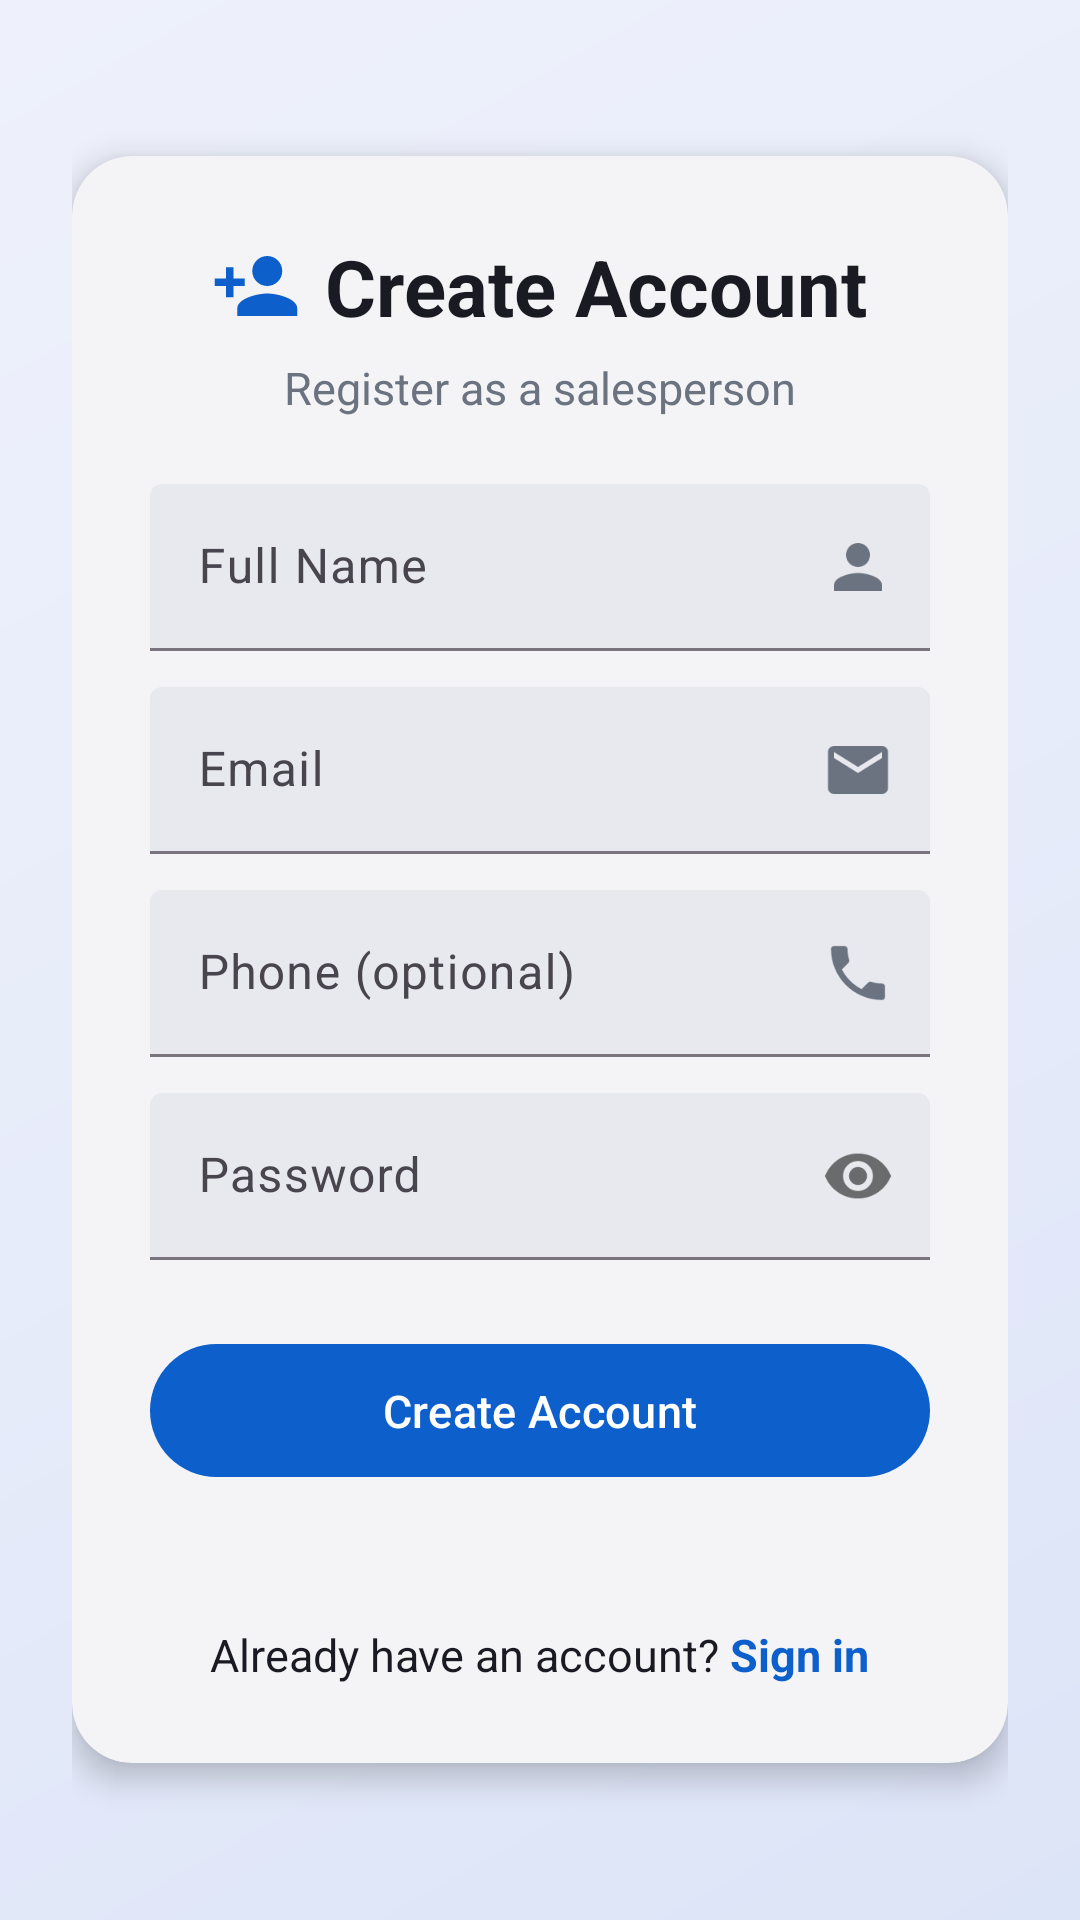

Icon click points for this 1080px x 1920px phone screenshot, format point (x, y):
add customer: point (256, 286)
